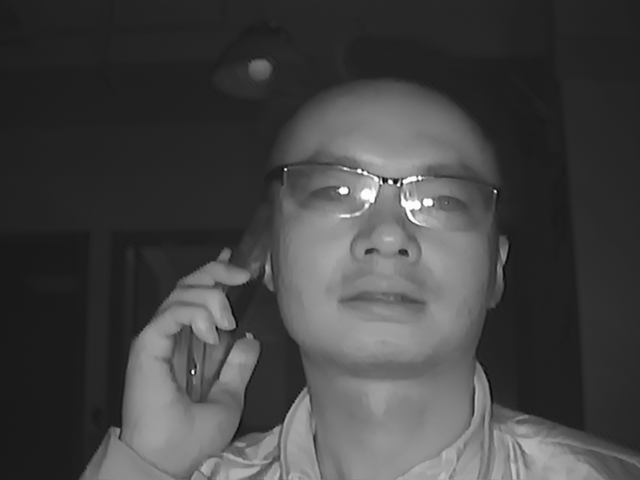hand: (128, 247, 264, 457)
